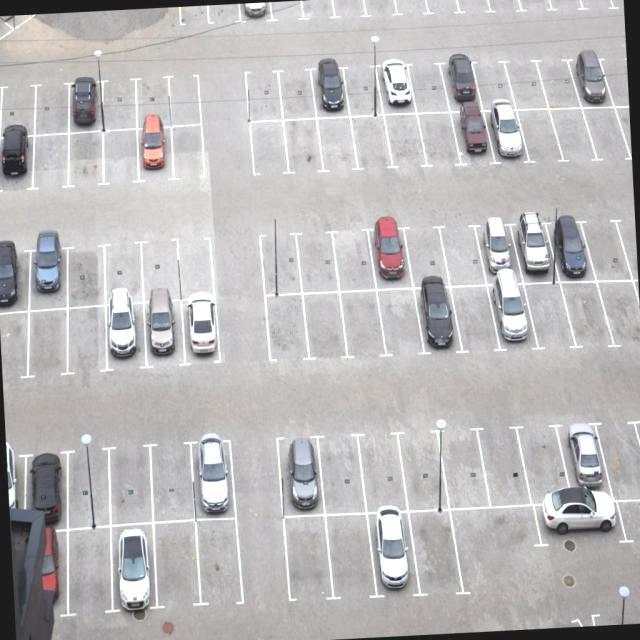space-empty: (62, 526, 113, 614), (194, 517, 243, 608), (150, 521, 200, 610), (326, 513, 375, 599), (410, 510, 458, 595), (283, 514, 330, 600), (152, 444, 198, 524), (110, 445, 156, 525), (361, 429, 405, 511), (483, 427, 527, 509), (66, 448, 111, 528), (445, 426, 488, 509), (403, 429, 445, 513), (322, 434, 365, 514), (450, 284, 498, 354), (524, 426, 567, 502), (600, 419, 640, 500), (374, 289, 420, 358), (64, 305, 109, 375), (340, 289, 385, 359), (584, 215, 630, 282), (528, 278, 572, 348), (562, 282, 607, 350), (24, 310, 68, 379), (264, 292, 308, 361), (301, 293, 344, 362), (404, 223, 448, 286), (260, 232, 302, 298), (106, 240, 147, 306), (442, 220, 484, 284), (335, 229, 376, 294), (601, 280, 640, 348), (298, 230, 338, 296), (67, 244, 108, 308), (142, 238, 181, 303), (178, 236, 214, 301), (586, 106, 627, 163), (384, 112, 424, 169), (350, 115, 390, 172), (250, 120, 290, 176), (418, 111, 457, 168), (317, 116, 356, 172), (283, 118, 322, 174), (66, 129, 104, 186), (554, 107, 592, 164), (523, 109, 562, 164), (34, 132, 72, 188), (0, 312, 30, 382), (101, 129, 139, 184), (507, 54, 544, 110), (247, 66, 284, 122), (542, 54, 578, 110), (477, 56, 514, 110), (345, 61, 382, 115), (104, 79, 140, 132), (278, 67, 314, 120), (36, 83, 71, 137), (411, 62, 447, 114), (136, 73, 171, 126), (171, 124, 205, 178), (0, 86, 35, 138), (171, 72, 204, 125), (605, 50, 629, 107), (619, 498, 640, 549), (205, 4, 243, 27), (268, 0, 303, 23), (179, 5, 212, 29), (299, 0, 334, 21), (332, 0, 367, 20), (361, 0, 397, 19), (390, 0, 427, 18), (423, 1, 459, 18), (457, 0, 493, 16), (579, 0, 615, 16), (486, 0, 521, 16), (547, 0, 584, 15), (519, 0, 555, 15)
space-occupied: (21, 528, 73, 624), (110, 524, 160, 612), (538, 498, 620, 550), (365, 511, 414, 598), (20, 450, 68, 528), (192, 440, 238, 521), (278, 437, 323, 516), (488, 276, 535, 350), (560, 418, 604, 492), (414, 287, 459, 356), (142, 301, 185, 369), (102, 304, 146, 370), (550, 215, 592, 283), (180, 297, 222, 363), (367, 224, 410, 288), (26, 245, 68, 309), (516, 216, 558, 278), (478, 222, 518, 283), (454, 110, 493, 166), (571, 51, 609, 107), (314, 62, 351, 118), (136, 127, 174, 181), (488, 110, 526, 164), (0, 245, 30, 313), (441, 57, 478, 111), (376, 59, 412, 114), (67, 81, 103, 134), (0, 132, 34, 188), (235, 2, 274, 24)
